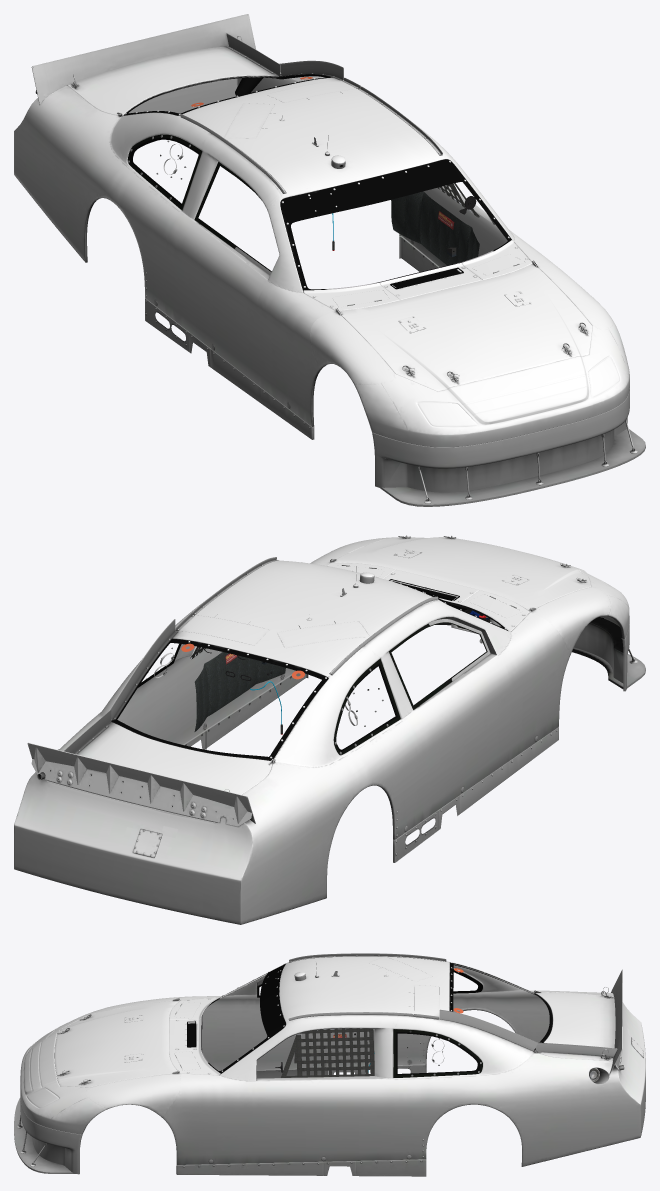
The picture shows the model from 3 angles, top to bottom: view 1: azimuth 30°, elevation 25°; view 2: azimuth 150°, elevation 25°; view 3: azimuth 270°, elevation 25°; orthographic projection. The views are drawn at different scales.
Visible parts, largest first — view 1: mesh_863, mesh_1033, mesh_1036; view 2: mesh_863, mesh_1033, mesh_1036; view 3: mesh_863, mesh_1025, mesh_1036.
Boxes of the visible parts, bbox=[...] form: mesh_863: bbox=[14, 14, 645, 506]; mesh_1033: bbox=[391, 191, 479, 265]; mesh_1036: bbox=[127, 134, 271, 271]; mesh_863: bbox=[14, 535, 645, 924]; mesh_1033: bbox=[194, 652, 285, 731]; mesh_1036: bbox=[141, 622, 487, 755]; mesh_863: bbox=[14, 953, 645, 1176]; mesh_1025: bbox=[281, 1028, 374, 1077]; mesh_1036: bbox=[259, 990, 482, 1077].
Size of the model in its own units: 1.85 by 1.54 by 5.12.
Materials: 25 (18 with a texture image).
